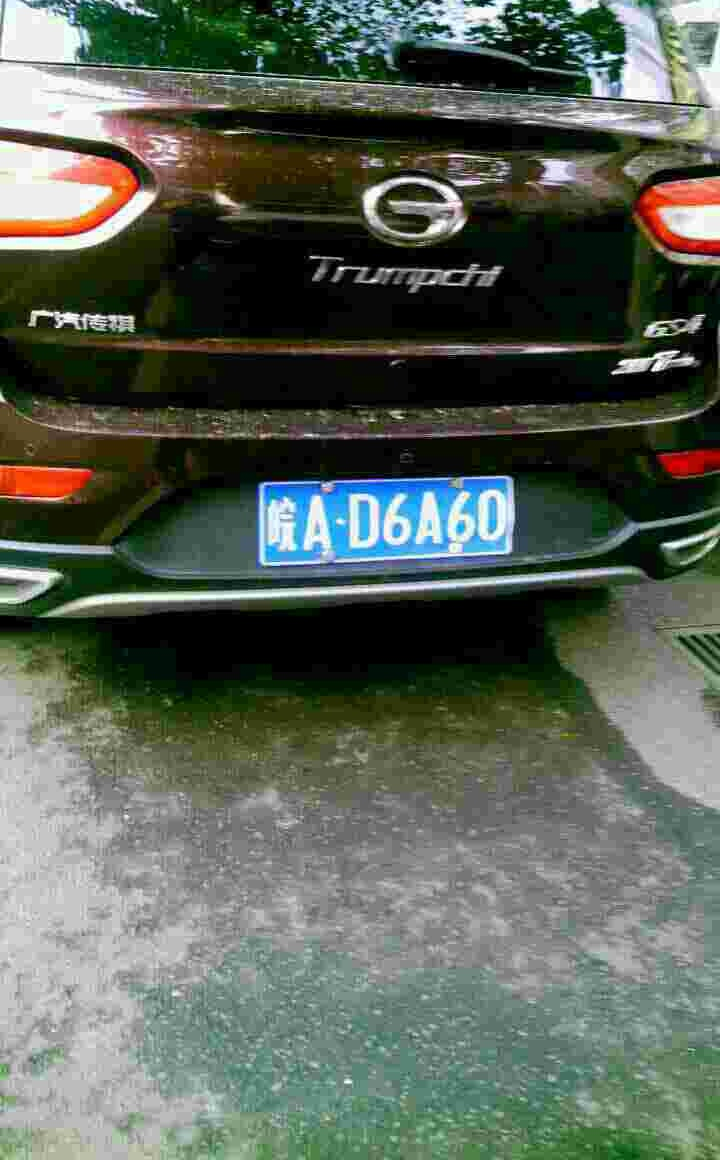license_plate: (267, 483, 518, 568)
